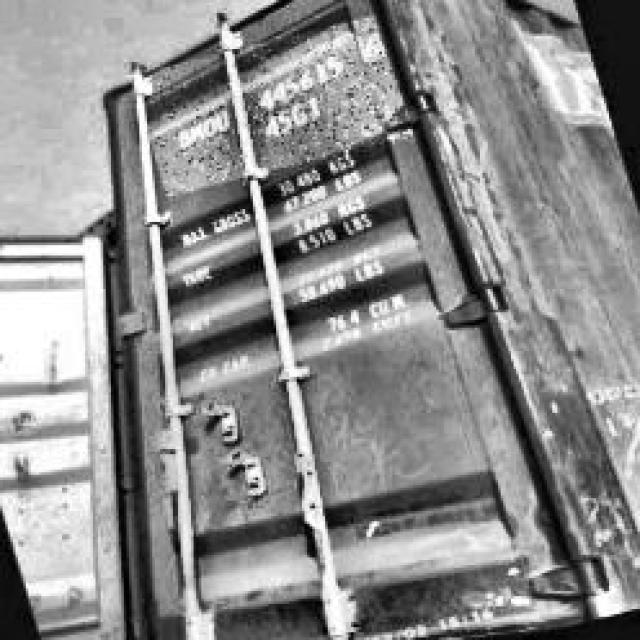ISO: (260, 96, 324, 142)
container_number: (175, 20, 384, 154)
